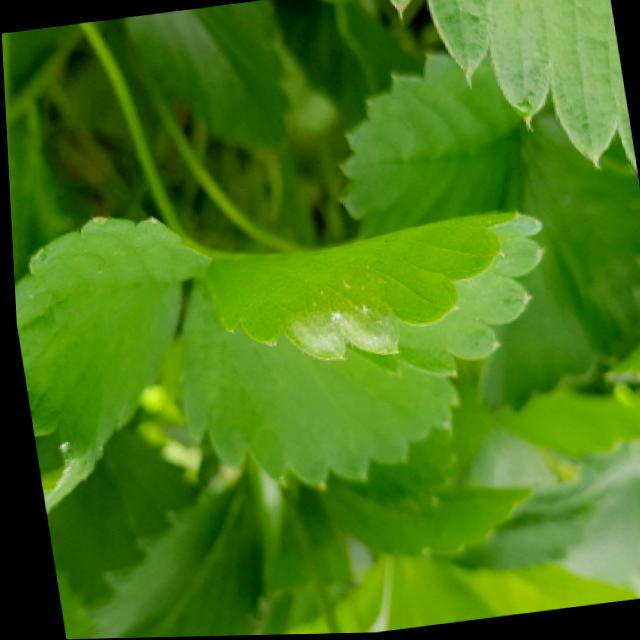Powdery Mildew Leaf: (196, 212, 544, 380)
